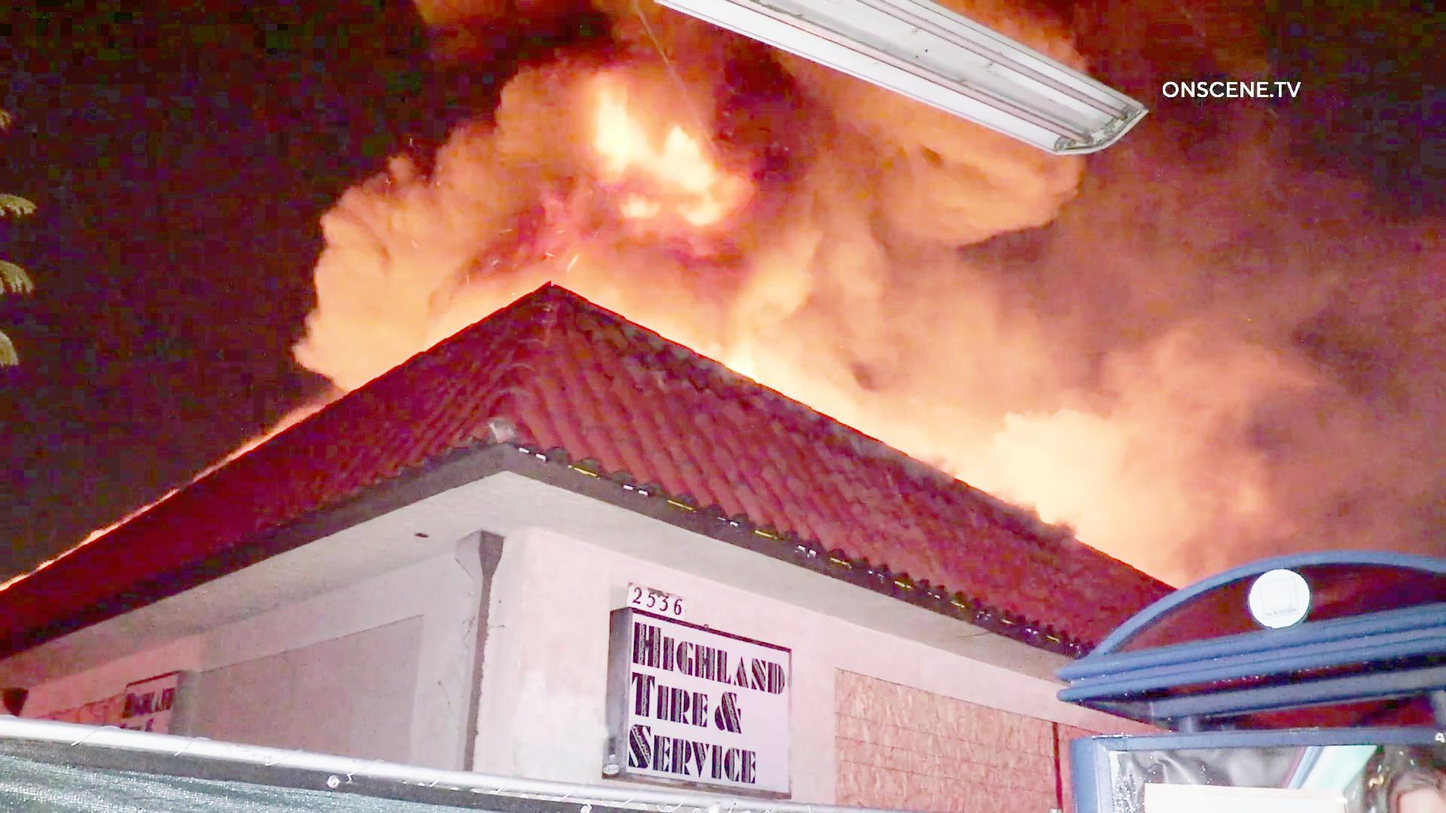smoke: (872, 239, 1443, 448)
